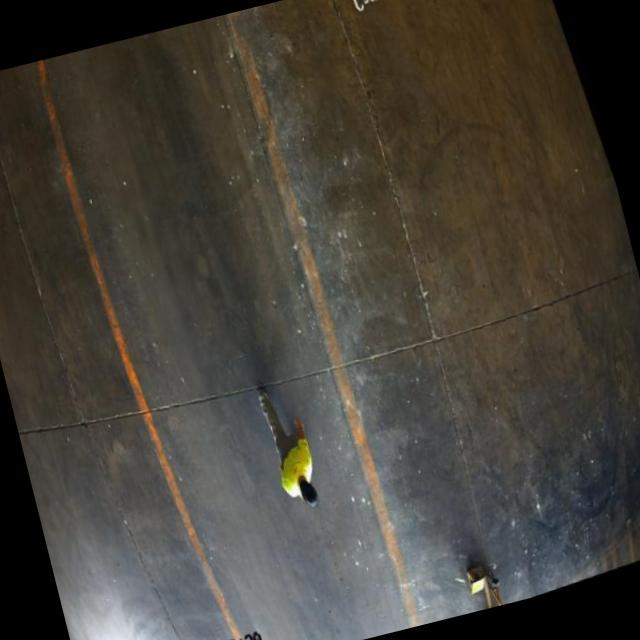person: (243, 367, 336, 530)
